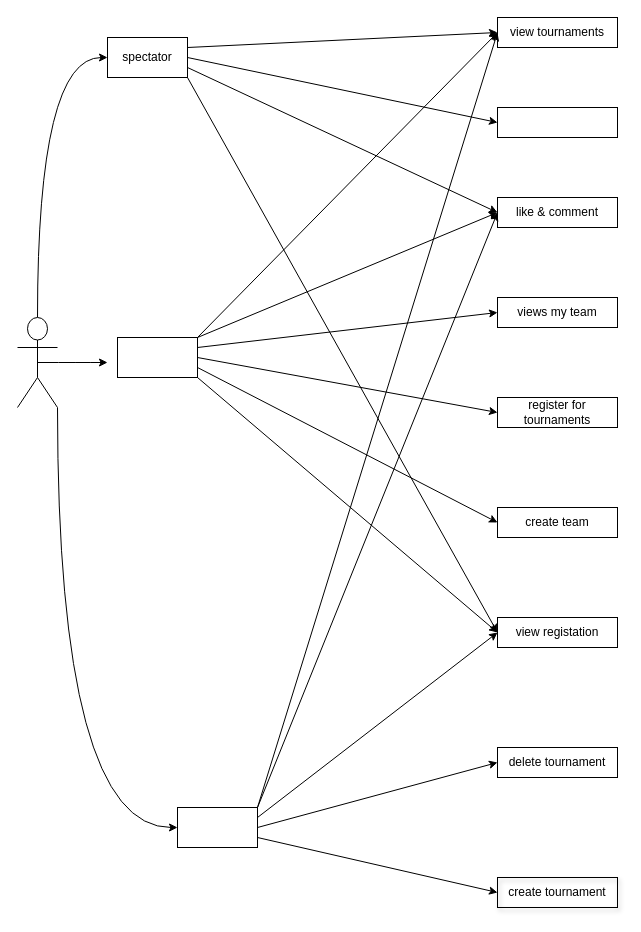
This 641x932 diagram has some shape labels left out. Each missing label, with the centre of its shape:
organizer: point 217,827
player: point 157,357
user: point 37,362
view teams: point 557,122
